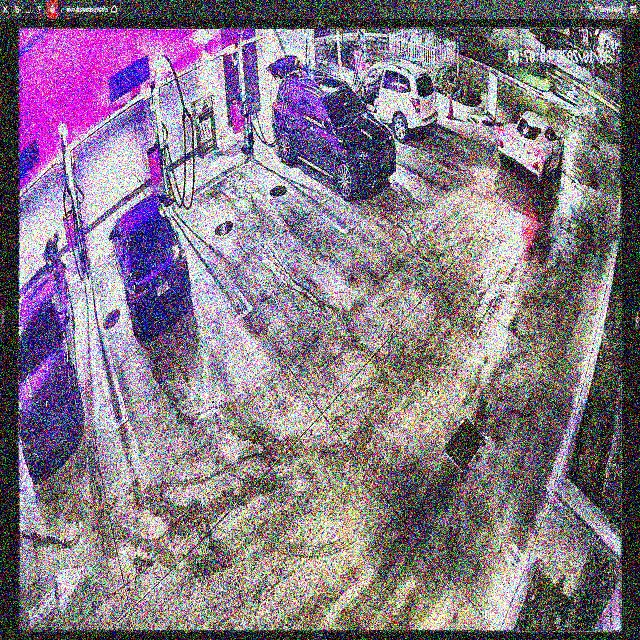Car: (268, 56, 392, 201), (109, 192, 192, 340), (498, 109, 565, 180)
